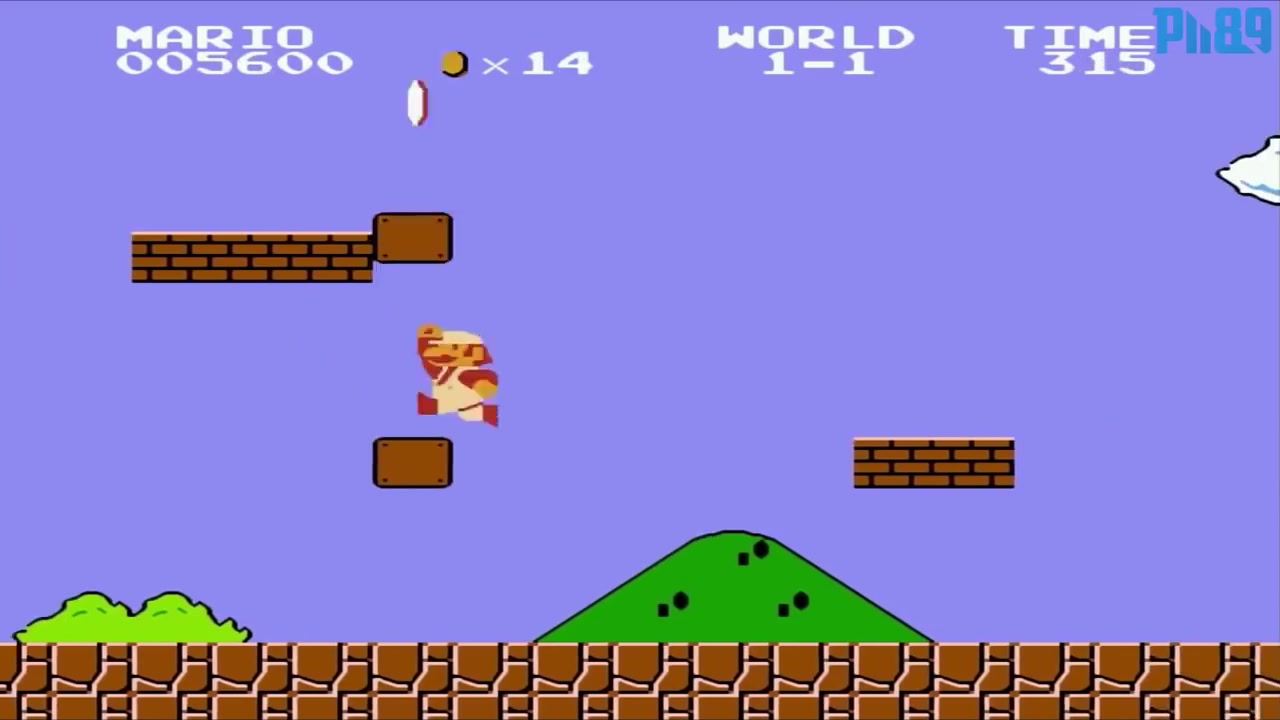mario: (402, 317, 509, 435)
